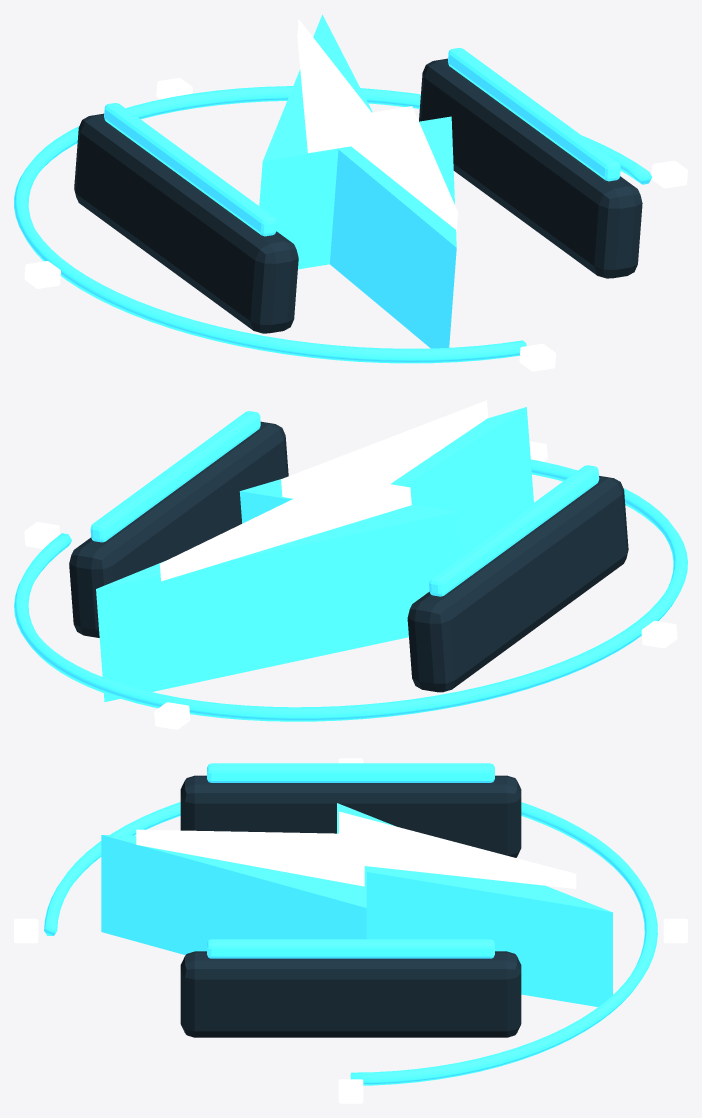
Rendered from laser-pickup.glb.
The picture shows the model from 3 angles, top to bottom: view 1: azimuth 30°, elevation 25°; view 2: azimuth 150°, elevation 25°; view 3: azimuth 270°, elevation 25°; orthographic projection. The views are drawn at different scales.
Parts seen in each view (by area): view 1: pickup-hover.003-PL-blue, pickup-hover.003-PL-metal, pickup-hover.003-PL-white; view 2: pickup-hover.003-PL-blue, pickup-hover.003-PL-metal, pickup-hover.003-PL-white; view 3: pickup-hover.003-PL-blue, pickup-hover.003-PL-metal, pickup-hover.003-PL-white.
Boxes of the visible parts, box(x1,y1,x2,y2) form: pickup-hover.003-PL-blue: box(14, 14, 652, 363); pickup-hover.003-PL-metal: box(74, 58, 642, 333); pickup-hover.003-PL-white: box(24, 19, 687, 371); pickup-hover.003-PL-blue: box(14, 407, 687, 721); pickup-hover.003-PL-metal: box(69, 421, 628, 692); pickup-hover.003-PL-white: box(24, 400, 677, 729); pickup-hover.003-PL-blue: box(44, 763, 657, 1085); pickup-hover.003-PL-metal: box(180, 775, 521, 1037); pickup-hover.003-PL-white: box(14, 758, 687, 1103).
Bounding box in the file's own units: 3.85 × 0.8171 × 3.86.
